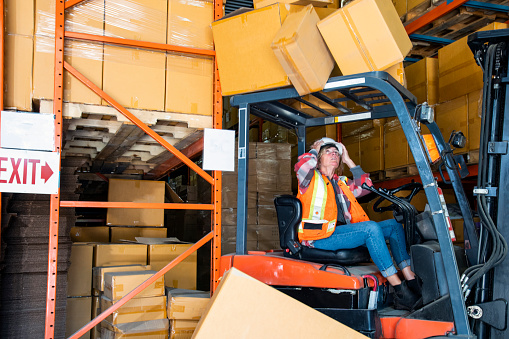unusual: (209, 6, 461, 308)
